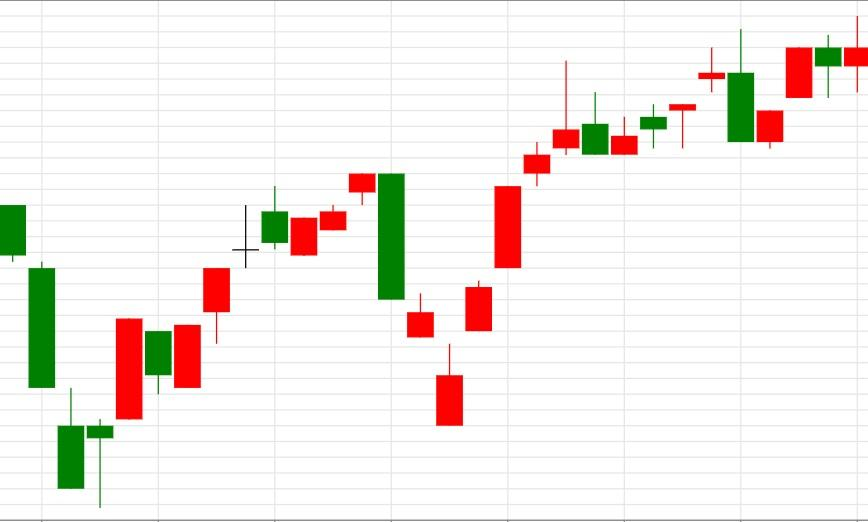bearish_engulfing_fall: (290, 172, 405, 299)
three_white_soldiers_rise: (347, 171, 521, 427)
